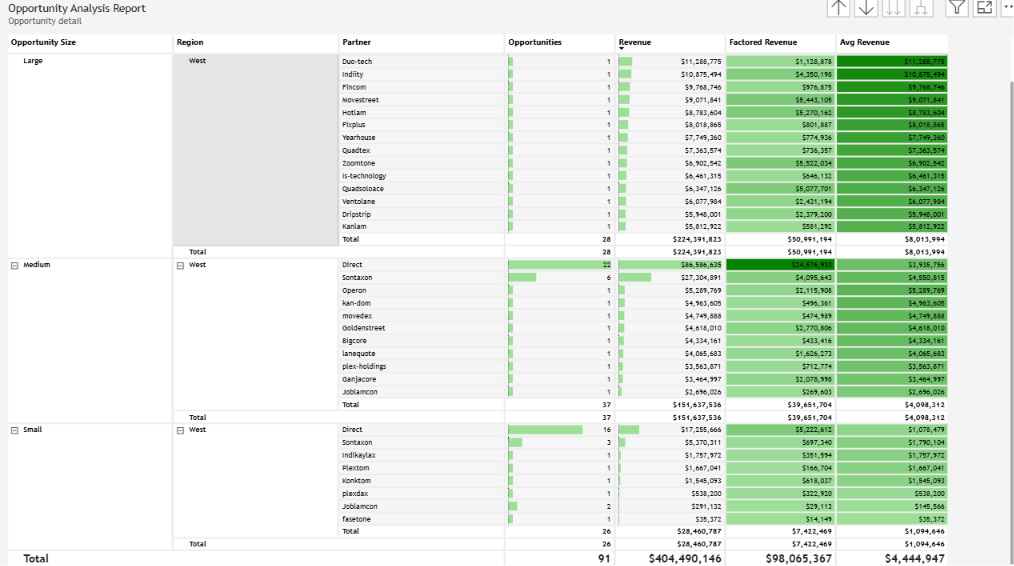

The dashboard page shown, as its layout file describes it:
{"tool":"powerbi","page":{"name":"Detail","canvas":[1920,1080],"ordinal":1},"visuals":[{"type":"pivotTable","title":"Opportunity Analysis Report","fields":{"Rows":["Opportunity.Opportunity Size","Account.Region","Partner.Partner"],"Values":["Fact.Opportunity Count","Fact.Revenue","Fact.Factored Revenue","Fact.Avg Revenue"]},"box":[63,26.1,1856.5,1054],"z":0},{"type":"actionButton","box":[0,26.7,63.3,66.6],"z":1000}]}

Visuals, with their boxes in screenshot pixels (x1, y1, x2, y2), scaled from the page's 1920x1080 canvas onto the 1014x566 screenshot:
"Opportunity Analysis Report" pivotTable: 33/14/1013/565
actionButton: 0/14/33/49
